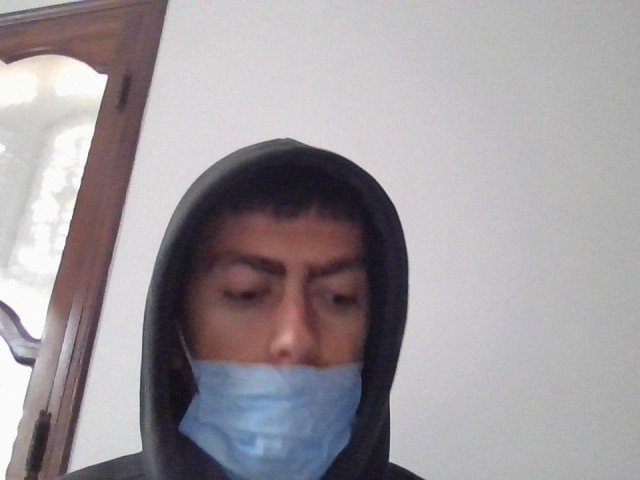mask_weared_incorrect: (167, 190, 362, 479)
